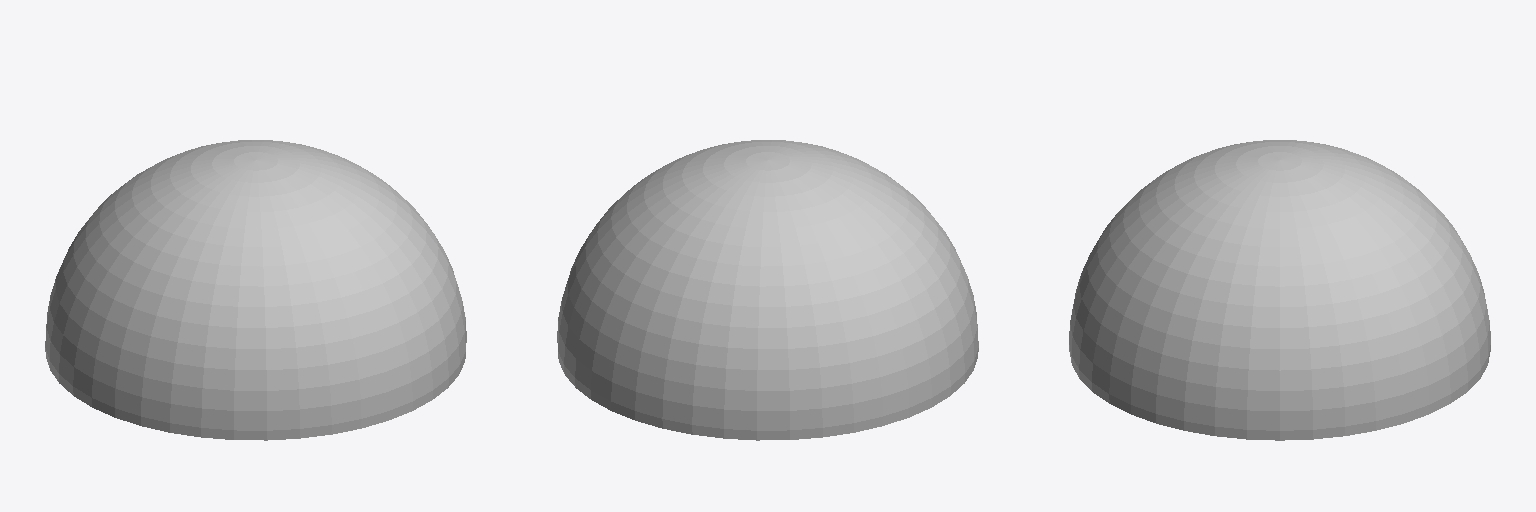
File: halfsphere_16cm.obj
3 views of the same model, side by side, from view 1: azimuth 30°, elevation 25°; view 2: azimuth 150°, elevation 25°; view 3: azimuth 270°, elevation 25° (orthographic).
Visible parts, largest first — view 1: Sphere_Sphere.001; view 2: Sphere_Sphere.001; view 3: Sphere_Sphere.001.
Part boxes in pixels (bbox=[...]): Sphere_Sphere.001: bbox=[45, 140, 466, 440]; Sphere_Sphere.001: bbox=[557, 140, 978, 440]; Sphere_Sphere.001: bbox=[1069, 140, 1490, 440].
Size of the model in its own units: 0.32 by 0.16 by 0.32.